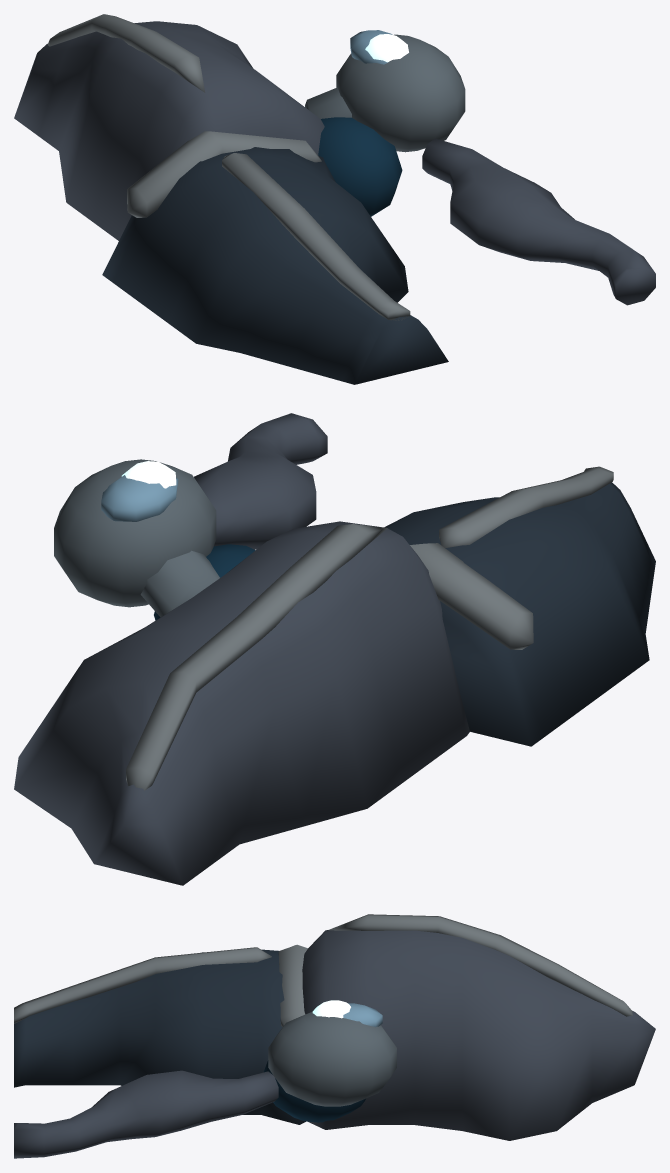
File: newshn-163.glb
3 views of the same model, one above another, from view 1: azimuth 30°, elevation 25°; view 2: azimuth 150°, elevation 25°; view 3: azimuth 270°, elevation 25° (orthographic). The views are drawn at different scales.
Visible parts, largest first — view 1: newshn-163; view 2: newshn-163; view 3: newshn-163.
Boxes of the visible parts, x1=… form: newshn-163: x1=14, y1=14, x2=655, y2=384; newshn-163: x1=14, y1=413, x2=655, y2=885; newshn-163: x1=14, y1=914, x2=655, y2=1158.
Bounding box in the file's own units: 1.35 × 0.595 × 2.27.
